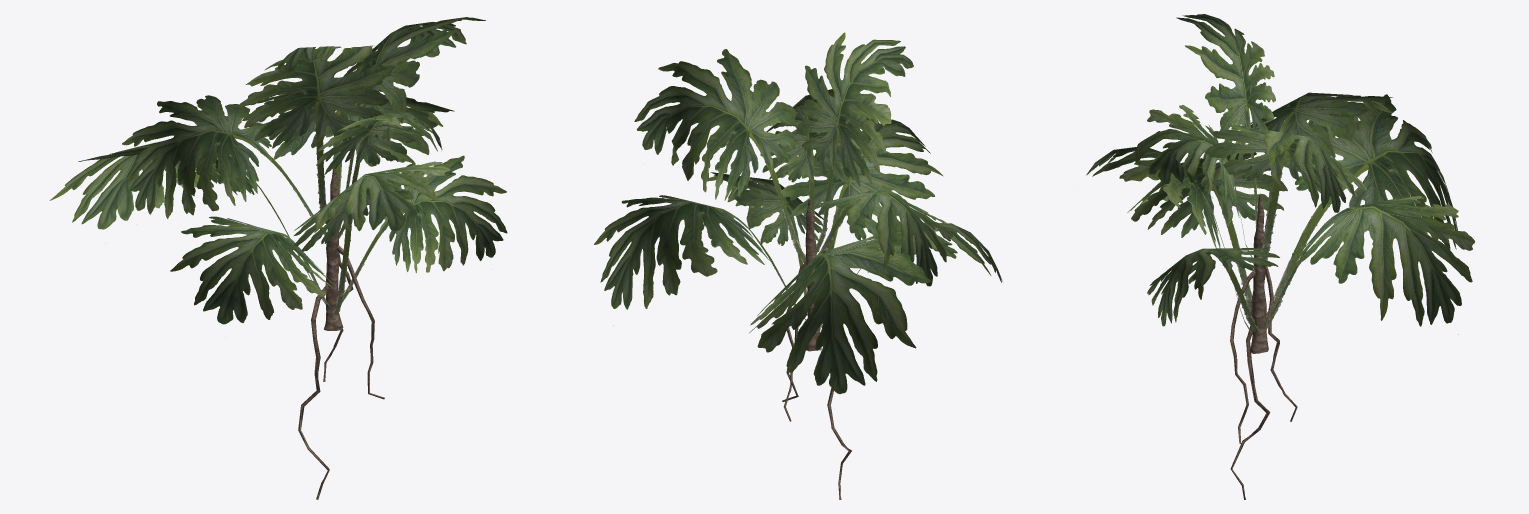
File: Philodendron_Selloum_Autumn_Adult.glb
3 renders of one model, left to right at view 1: azimuth 30°, elevation 25°; view 2: azimuth 150°, elevation 25°; view 3: azimuth 270°, elevation 25°, orthographic. The views are drawn at different scales.
Parts seen in each view (by area): view 1: Philodendron_Selloum_Autumn_Adult__LOD3; view 2: Philodendron_Selloum_Autumn_Adult__LOD3; view 3: Philodendron_Selloum_Autumn_Adult__LOD3.
Part boxes in pixels (bbox=[...]): Philodendron_Selloum_Autumn_Adult__LOD3: bbox=[49, 17, 507, 499]; Philodendron_Selloum_Autumn_Adult__LOD3: bbox=[594, 32, 1002, 499]; Philodendron_Selloum_Autumn_Adult__LOD3: bbox=[1086, 14, 1474, 499].
Bounding box in the file's own units: 2.28 × 2.45 × 2.16.
2 materials, 2 textured.
